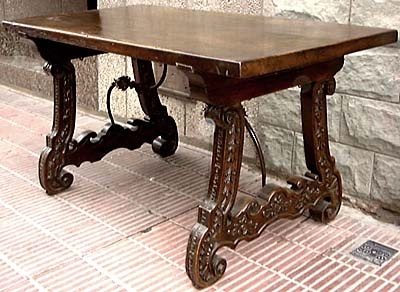obstacle: (3, 6, 396, 287)
